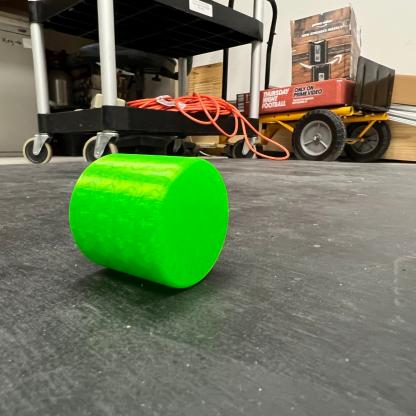green cylinder: (66, 149, 233, 294)
